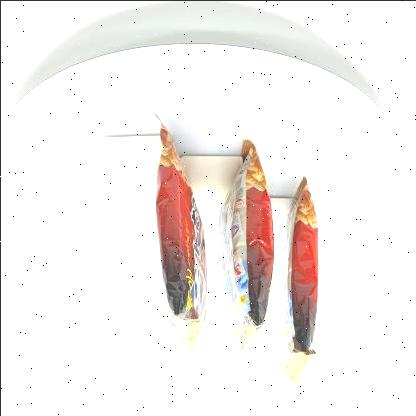Others: (145, 106, 325, 390)
